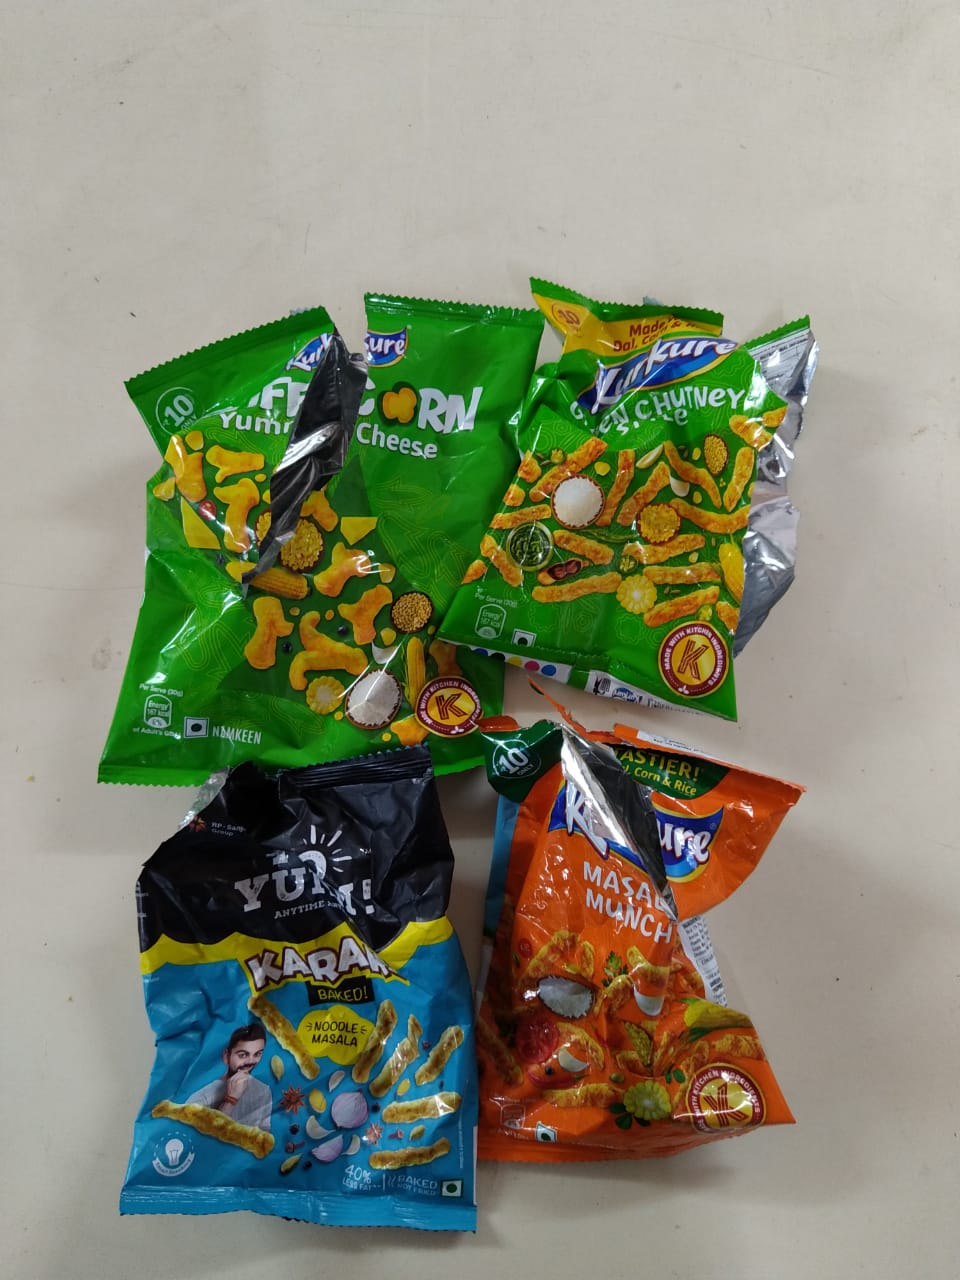kurkure: (541, 757, 753, 882), (580, 328, 721, 436), (529, 766, 672, 865), (561, 324, 753, 391), (627, 780, 719, 904), (282, 316, 341, 377), (361, 326, 417, 369)
tooyumm: (217, 837, 376, 931), (210, 837, 378, 912), (266, 821, 361, 904)
wrapper: (100, 283, 537, 755), (114, 745, 486, 1223), (449, 717, 817, 1145), (494, 262, 768, 712)
